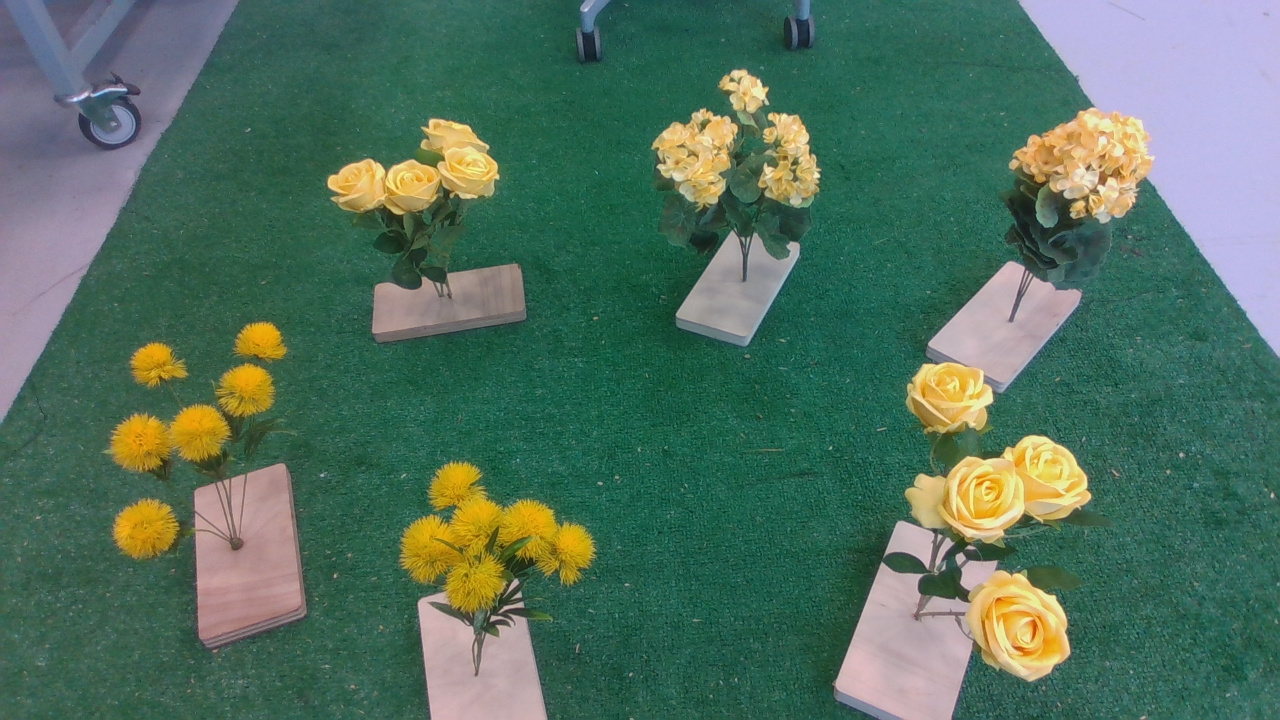dandelion: (97, 322, 303, 576), (392, 453, 605, 641)
geranium: (653, 68, 827, 276), (1002, 110, 1168, 290)
rose: (881, 353, 1101, 693), (330, 119, 518, 295)
